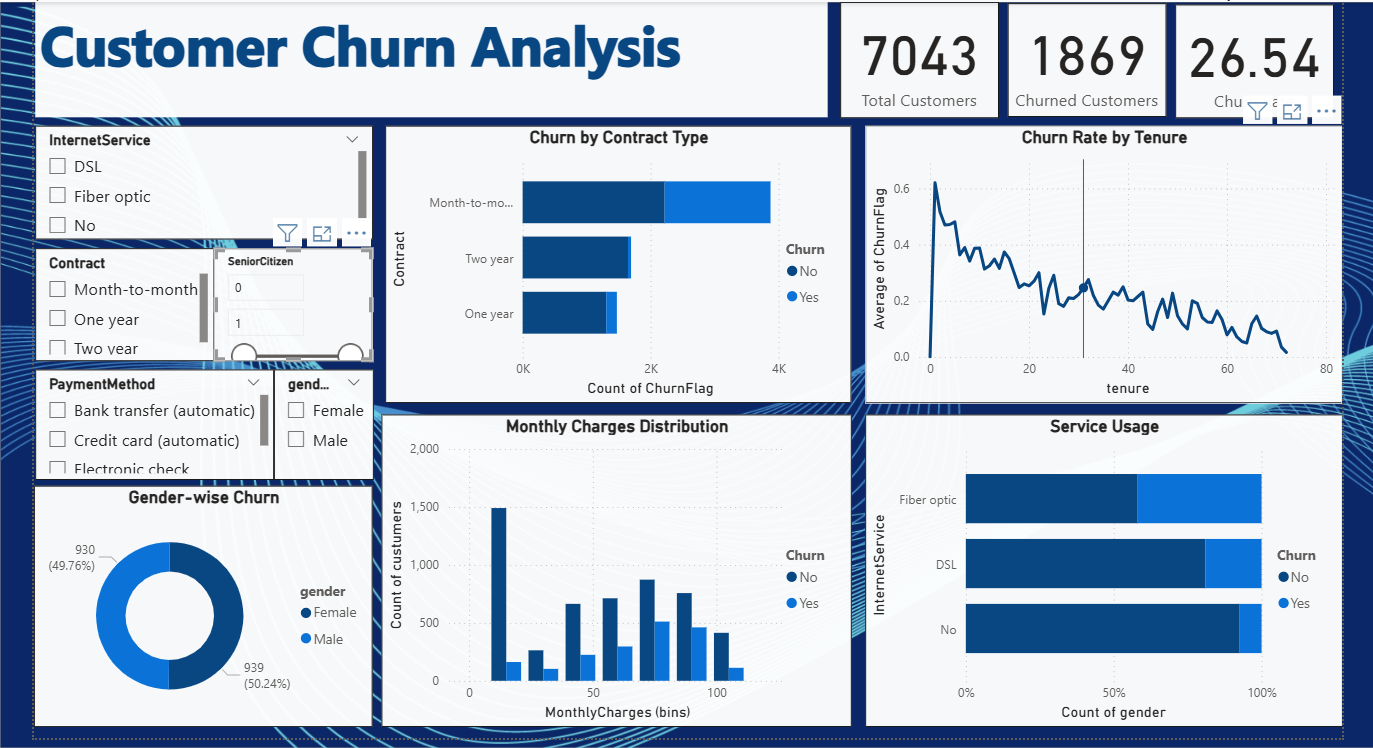

What the dashboard file says about the page in this screenshot:
{"tool":"powerbi","page":{"name":"Page 1","canvas":[1280,720],"ordinal":0},"visuals":[{"type":"card","title":"Total Customers","fields":{"Values":["CountNonNull(Telco-Customer-Churn.gender)"]},"box":[788.7,0,155.3,113.7],"z":0},{"type":"card","fields":{"Values":["Sum(Telco-Customer-Churn.ChurnFlag )"]},"box":[952.6,1.2,155.3,111.3],"z":1000},{"type":"card","fields":{"Values":["Telco-Customer-Churn.Churn Rate"]},"box":[1116.4,2.4,155.3,111.3],"z":2000},{"type":"barChart","title":"Churn by Contract Type","fields":{"Category":["Telco-Customer-Churn.Contract"],"Series":["Telco-Customer-Churn.Churn"],"Y":["CountNonNull(Telco-Customer-Churn.ChurnFlag )"]},"box":[343.6,121.1,456.1,271.5],"z":3000},{"type":"lineChart","title":"Churn Rate by Tenure","fields":{"Category":["Telco-Customer-Churn.tenure"],"Y":["Avg(Telco-Customer-Churn.ChurnFlag )"]},"box":[813.2,121.1,467.1,271.5],"z":4000},{"type":"clusteredColumnChart","title":"Monthly Charges Distribution","fields":{"Category":["Telco-Customer-Churn.MonthlyCharges (bins)"],"Y":["CountNonNull(Telco-Customer-Churn.gender)"],"Series":["Telco-Customer-Churn.Churn"]},"box":[339.9,403.5,459.8,305.7],"z":5000},{"type":"hundredPercentStackedBarChart","title":"Service Usage ","fields":{"Y":["CountNonNull(Telco-Customer-Churn.gender)"],"Category":["Telco-Customer-Churn.InternetService","Telco-Customer-Churn.TechSupport"],"Series":["Telco-Customer-Churn.Churn"]},"box":[813.2,403.5,467.1,305.7],"z":6000},{"type":"donutChart","title":"Gender-wise Churn","fields":{"Series":["Telco-Customer-Churn.Churn"],"Category":["Telco-Customer-Churn.gender"],"Y":["Sum(Telco-Customer-Churn.ChurnFlag )"]},"box":[0,473.2,331.4,236],"z":7000},{"type":"slicer","fields":{"Values":["Telco-Customer-Churn.gender"]},"box":[234.8,359.5,97.8,107.6],"z":8000},{"type":"slicer","fields":{"Values":["Telco-Customer-Churn.SeniorCitizen"]},"box":[176.1,240.9,155.3,110.1],"z":9000},{"type":"slicer","fields":{"Values":["Telco-Customer-Churn.Contract"]},"box":[1.2,240.9,174.9,110.1],"z":10000},{"type":"slicer","fields":{"Values":["Telco-Customer-Churn.PaymentMethod"]},"box":[1.2,359.5,233.6,107.6],"z":11000},{"type":"textbox","box":[1.2,0,775.3,112.5],"z":12000},{"type":"slicer","fields":{"Values":["Telco-Customer-Churn.InternetService"]},"box":[1.2,121.1,330.2,111.3],"z":13000}]}

Visuals, with their boxes in screenshot pixels (x1, y1, x2, y2):
"Total Customers" card: bbox(836, 0, 995, 113)
card - Sum(Telco-Customer-Churn.ChurnFlag ): bbox(1004, 0, 1163, 112)
card - Telco-Customer-Churn.Churn Rate: bbox(1171, 0, 1330, 113)
"Churn by Contract Type" barChart: bbox(380, 120, 847, 398)
"Churn Rate by Tenure" lineChart: bbox(861, 120, 1339, 398)
"Monthly Charges Distribution" clusteredColumnChart: bbox(377, 409, 847, 722)
"Service Usage " hundredPercentStackedBarChart: bbox(861, 409, 1339, 722)
"Gender-wise Churn" donutChart: bbox(29, 481, 368, 722)
slicer - Telco-Customer-Churn.gender: bbox(269, 364, 369, 475)
slicer - Telco-Customer-Churn.SeniorCitizen: bbox(209, 243, 368, 356)
slicer - Telco-Customer-Churn.Contract: bbox(30, 243, 209, 356)
slicer - Telco-Customer-Churn.PaymentMethod: bbox(30, 364, 269, 475)
textbox: bbox(30, 0, 823, 112)
slicer - Telco-Customer-Churn.InternetService: bbox(30, 120, 368, 234)
